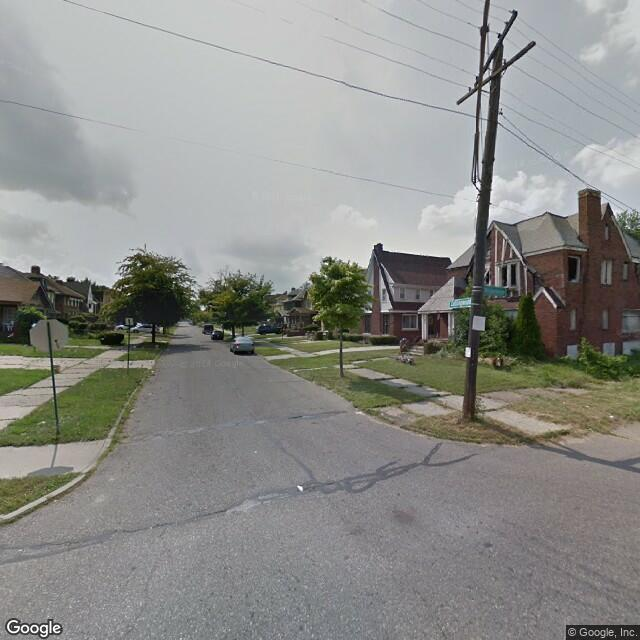litter: (296, 483, 308, 493), (609, 413, 614, 421), (39, 419, 46, 423), (151, 369, 154, 375)
